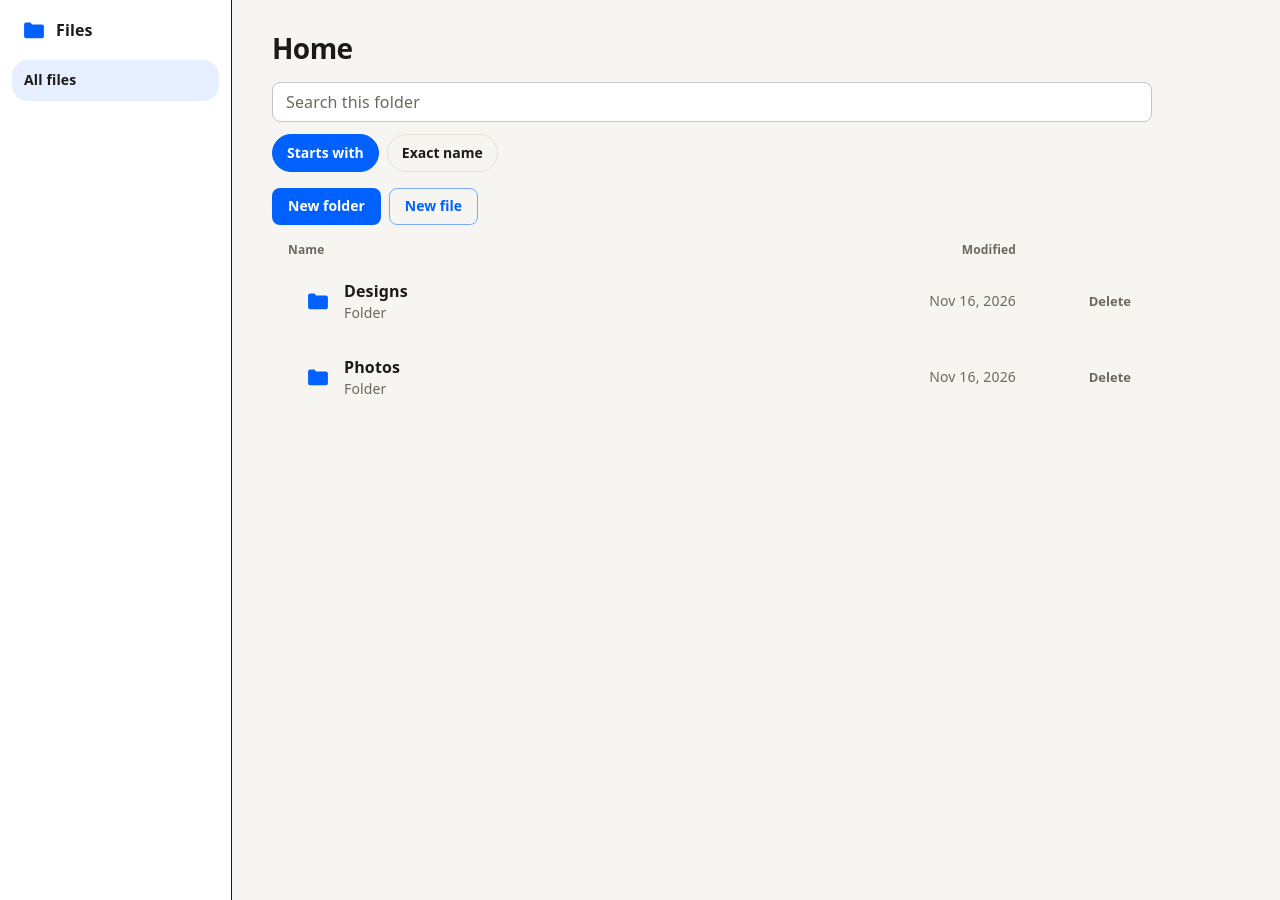
Test case: delete › does not delete when the confirm is cancelled
Click the button with aria-label "Delete Designs": click(1110, 301) left=1084, top=285, right=1136, bottom=316
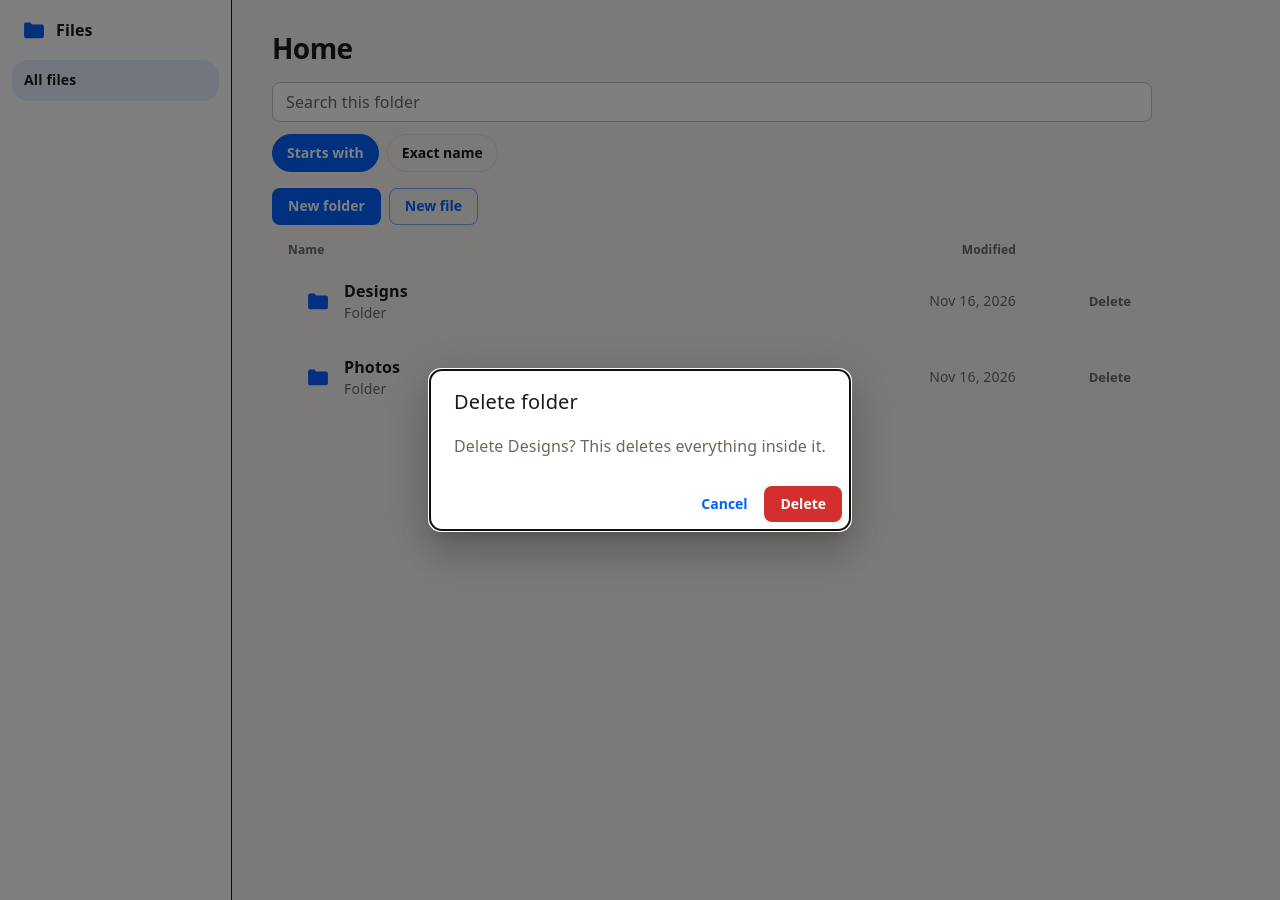
Click the button "Cancel": click(724, 504) left=692, top=486, right=756, bottom=522
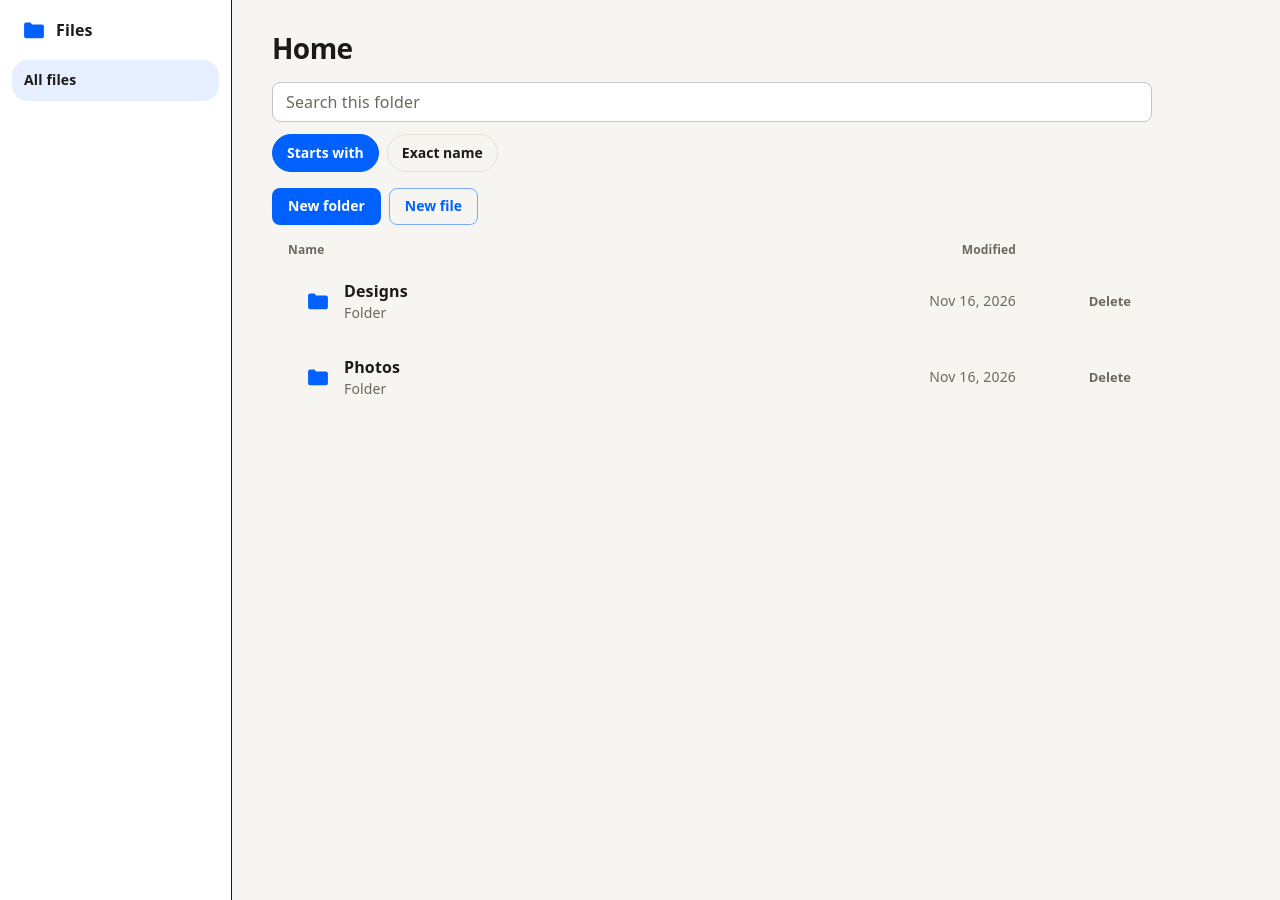
Expected: the link "Designs Folder" is shown, left=304, top=280, right=408, bottom=322
Now the dialog is gone
